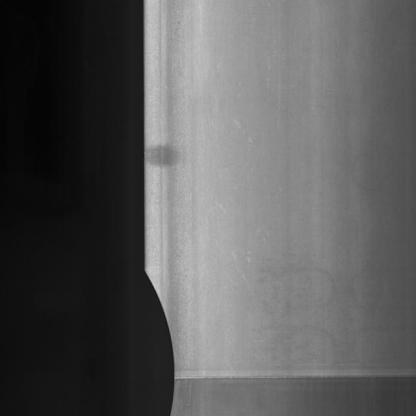crescent_gap: (138, 260, 182, 416)
welding_line: (174, 366, 416, 391)
